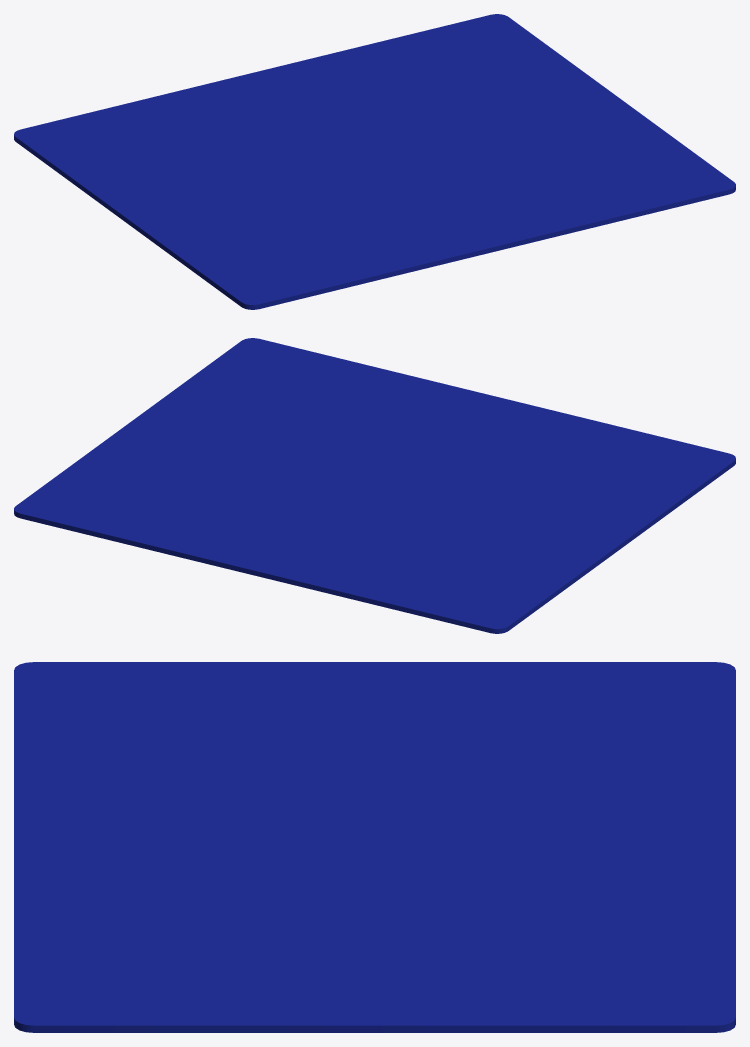
The model's file is Board_Canvas.fbx.
3 views of the same model, one above another, from view 1: azimuth 30°, elevation 25°; view 2: azimuth 150°, elevation 25°; view 3: azimuth 270°, elevation 25° (orthographic). The views are drawn at different scales.
Visible parts, largest first — view 1: Board_Canvas; view 2: Board_Canvas; view 3: Board_Canvas.
Boxes of the visible parts, <box> form: Board_Canvas: <box>14,14,735,309</box>; Board_Canvas: <box>14,338,735,633</box>; Board_Canvas: <box>14,662,735,1032</box>.
Size of the model in its own units: 4.24 by 0.04 by 3.56.
